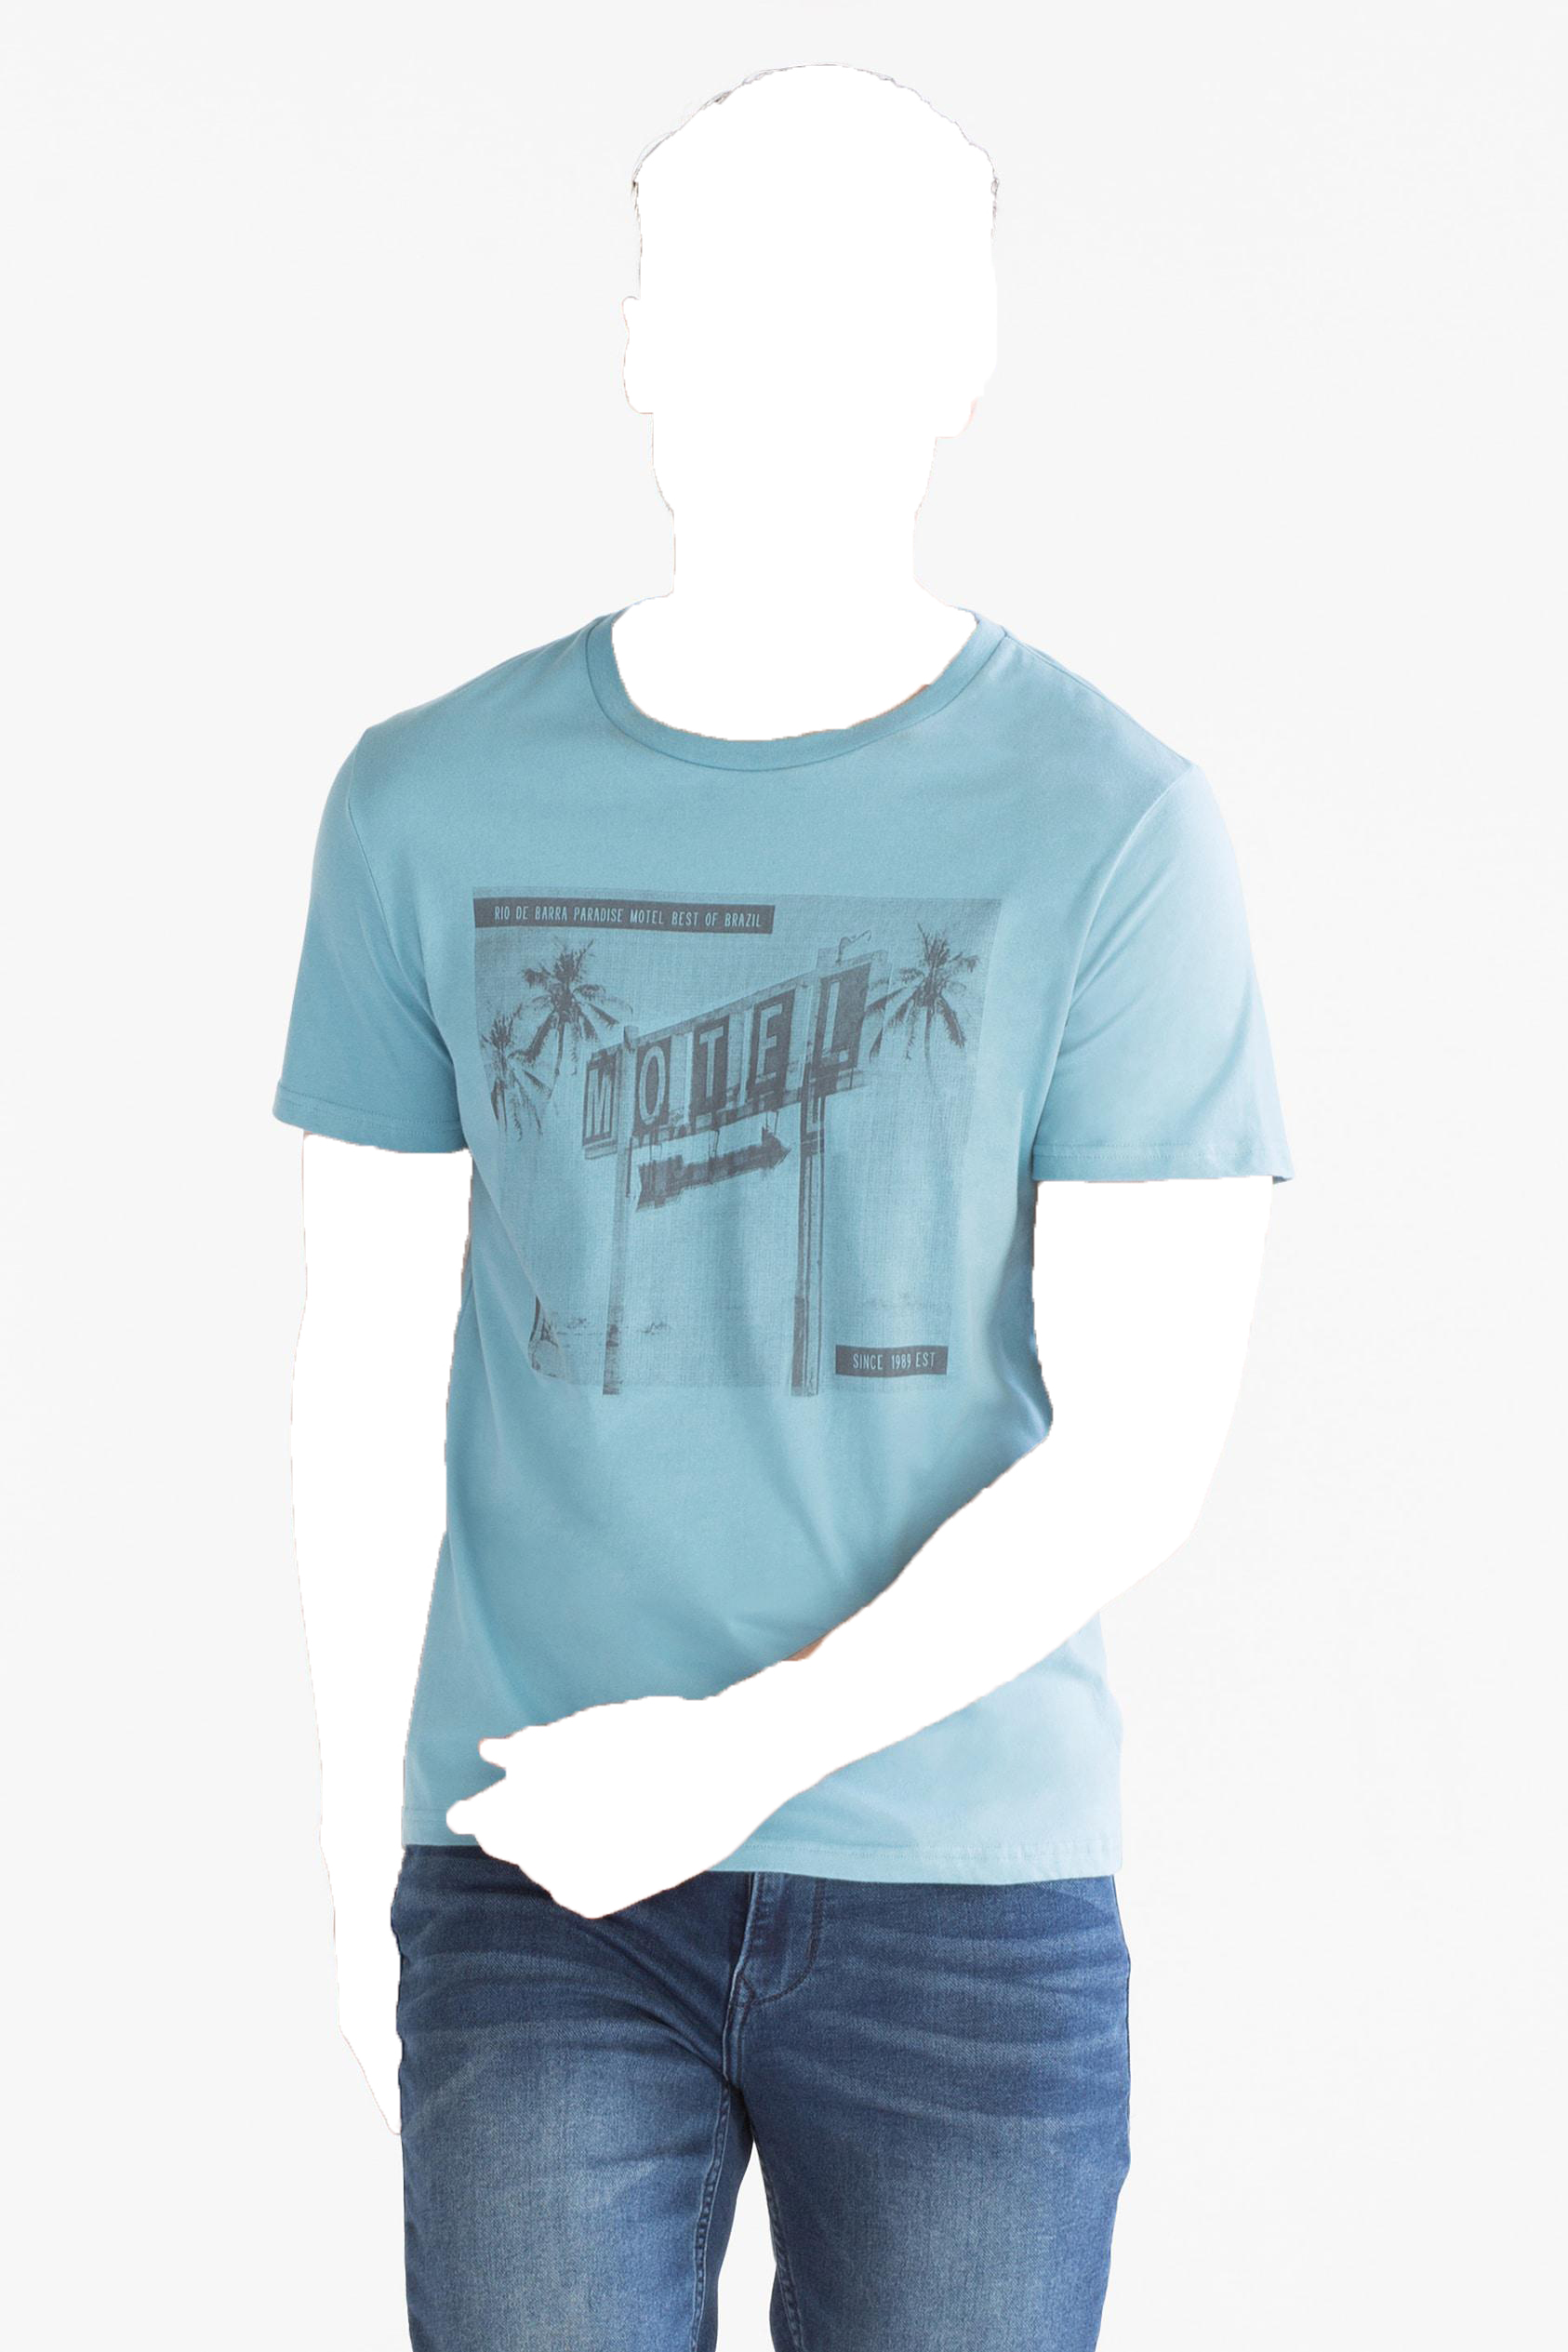teeshirt: (276, 588, 1328, 1906)
